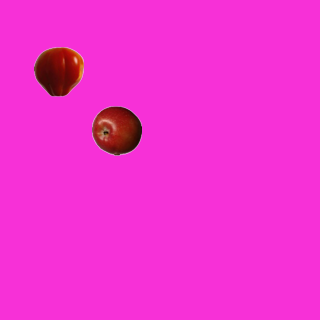Apple Braeburn: (91, 105, 141, 155)
Tomato 1: (33, 46, 83, 96)
